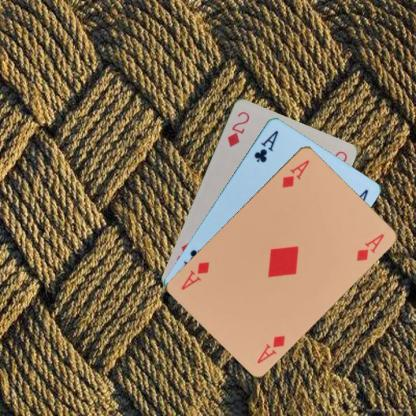2d: (224, 109, 251, 148)
Ac: (250, 127, 280, 164)
Ad: (254, 332, 287, 365), (279, 157, 311, 189)
